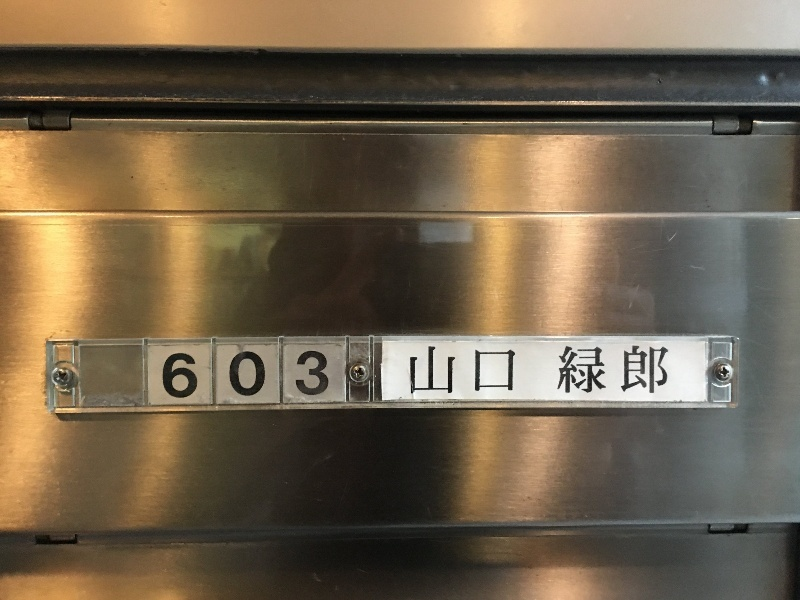text: (417, 346, 432, 397), (433, 346, 448, 397), (449, 346, 464, 397), (465, 346, 480, 397), (481, 346, 496, 397), (497, 346, 512, 397), (177, 351, 192, 401), (193, 351, 208, 401), (209, 351, 224, 401), (225, 351, 240, 401), (241, 351, 256, 401), (257, 351, 272, 401), (273, 351, 288, 401), (289, 351, 304, 401), (305, 351, 320, 401), (561, 347, 576, 397), (577, 347, 592, 397), (593, 347, 608, 397), (609, 347, 624, 397), (625, 347, 640, 397), (641, 347, 656, 397), (162, 351, 176, 401), (657, 347, 670, 397), (321, 351, 330, 401), (409, 346, 416, 397), (513, 346, 516, 397), (557, 347, 560, 397)
